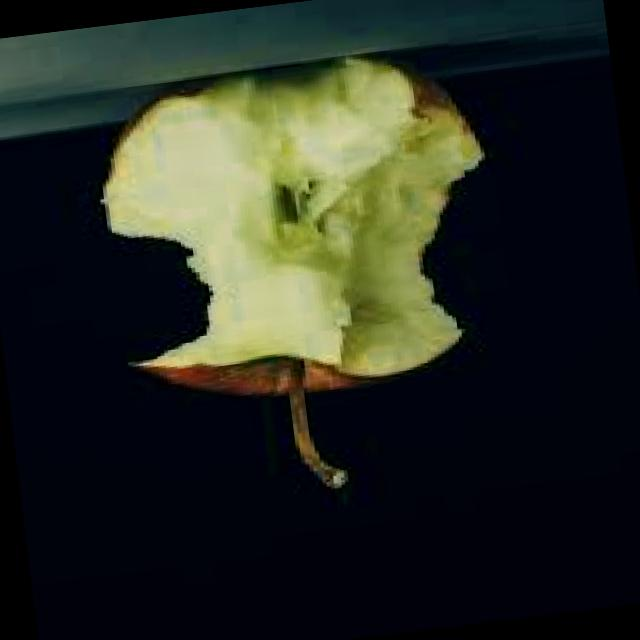Used Apple: (83, 43, 514, 413)
